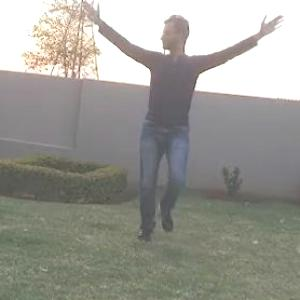takeoff: (90, 12, 280, 230)
